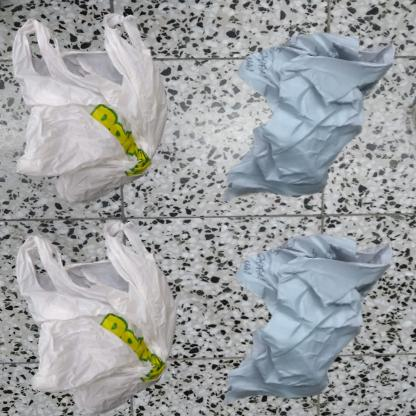bolsa: (10, 213, 195, 416), (10, 10, 172, 209)
papel: (213, 10, 406, 236), (213, 213, 402, 416)
